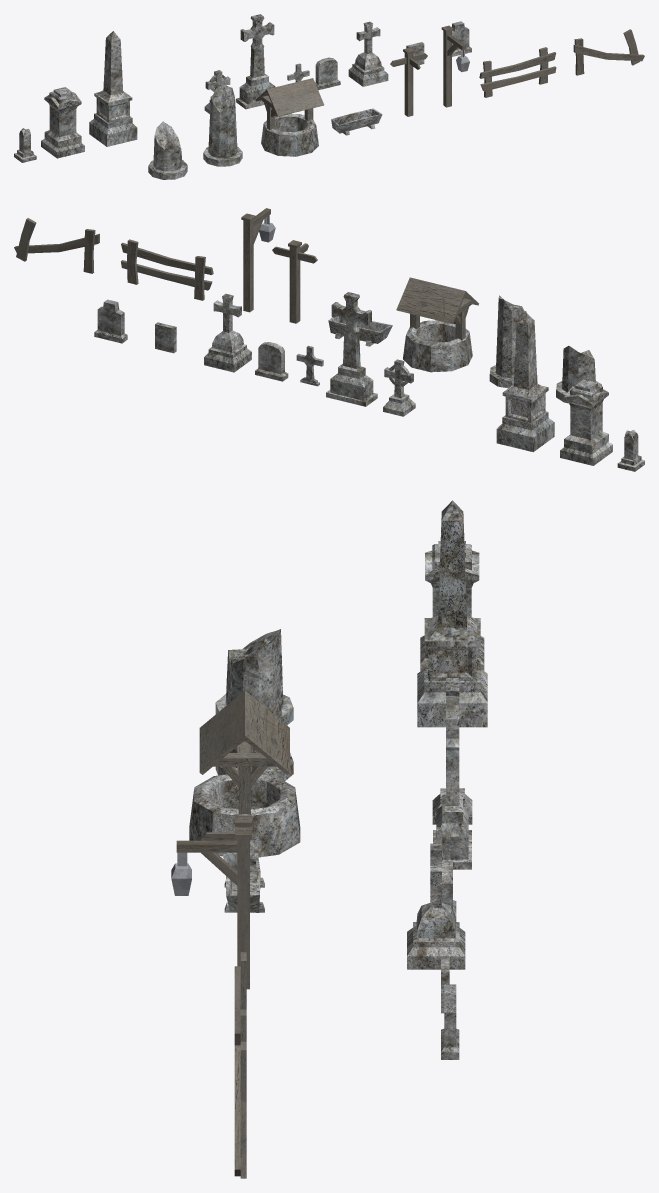
Rendered from medevil-props-lamoot.dae.
3 views of the same model, one above another, from view 1: azimuth 30°, elevation 25°; view 2: azimuth 150°, elevation 25°; view 3: azimuth 270°, elevation 25° (orthographic). The views are drawn at different scales.
Parts seen in each view (by area): view 1: Cube.005, tombstone_01, Circle.004, tombstone_01.001, cross_big, Circle.005, Cube.011, Cube.002, Cube.009, Cube.013, Cube.012, Cube.007 (+4 smaller); view 2: Cube.005, tombstone_01, tombstone_01.001, cross_big, Cube.011, Cube.002, Circle.004, Cube.009, Cube.013, Circle.005, Cube.012, Cube.006 (+6 smaller); view 3: Cube.005, tombstone_01, Cube.002, Cube.009, cross_big, Circle.004, tombstone_01.001, Cube.013, Cube.007, Cube.003, Circle.005, Cube.011.
Part boxes in pixels (bbox=[...]): Cube.005: bbox=[256, 78, 324, 156]; tombstone_01: bbox=[89, 31, 137, 146]; Circle.004: bbox=[203, 84, 242, 166]; tombstone_01.001: bbox=[41, 87, 84, 158]; cross_big: bbox=[236, 14, 275, 109]; Circle.005: bbox=[148, 121, 187, 179]; Cube.011: bbox=[479, 47, 556, 97]; Cube.002: bbox=[348, 21, 388, 86]; Cube.009: bbox=[441, 25, 469, 107]; Cube.013: bbox=[573, 29, 644, 75]; Cube.012: bbox=[390, 47, 427, 116]; Cube.007: bbox=[331, 108, 382, 135]; Cube.005: bbox=[396, 277, 478, 372]; tombstone_01: bbox=[496, 312, 554, 452]; tombstone_01.001: bbox=[560, 379, 612, 465]; cross_big: bbox=[326, 292, 377, 406]; Cube.011: bbox=[121, 239, 213, 300]; Cube.002: bbox=[204, 293, 251, 372]; Circle.004: bbox=[489, 295, 526, 388]; Cube.009: bbox=[241, 208, 275, 312]; Cube.013: bbox=[14, 218, 99, 273]; Circle.005: bbox=[556, 346, 601, 403]; Cube.012: bbox=[272, 240, 317, 323]; Cube.006: bbox=[383, 359, 415, 416]; Cube.005: bbox=[189, 690, 300, 857]; tombstone_01: bbox=[417, 500, 487, 727]; Cube.002: bbox=[407, 843, 465, 969]; Cube.009: bbox=[171, 827, 252, 989]; cross_big: bbox=[433, 678, 471, 869]; Circle.004: bbox=[215, 634, 293, 780]; tombstone_01.001: bbox=[420, 541, 484, 671]; Cube.013: bbox=[234, 1041, 246, 1178]; Cube.007: bbox=[222, 852, 264, 912]; Cube.003: bbox=[441, 984, 459, 1059]; Circle.005: bbox=[215, 629, 293, 725]; Cube.011: bbox=[234, 952, 246, 1046].
Size of the model in its own units: 41.76 by 10 by 7.67.
3 materials, 3 textured.
